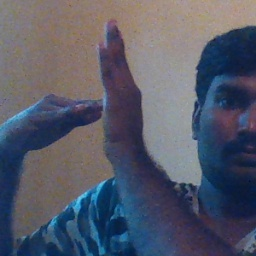Z: (26, 18, 149, 161)
